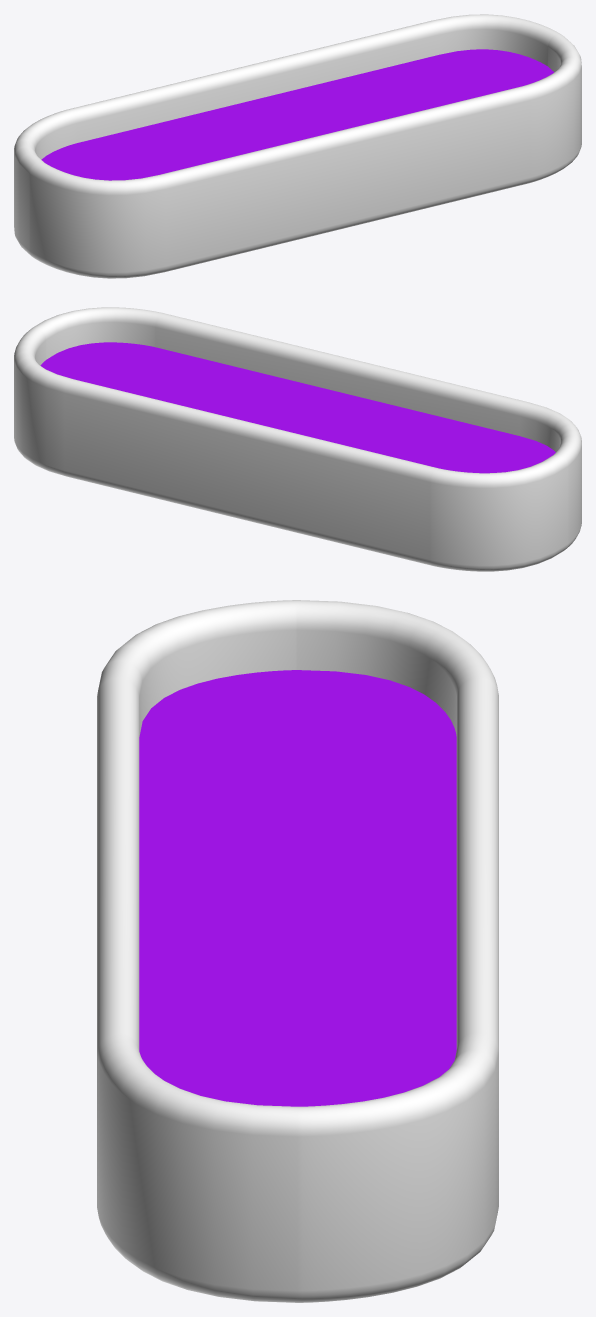
The model's file is Paddle-13.dae.
3 renders of one model, top to bottom at view 1: azimuth 30°, elevation 25°; view 2: azimuth 150°, elevation 25°; view 3: azimuth 270°, elevation 25°, orthographic. The views are drawn at different scales.
Visible parts, largest first — view 1: Paddle; view 2: Paddle; view 3: Paddle.
Part boxes in pixels (box(x1,y1,x2,y2)): Paddle: box(14, 14, 581, 278); Paddle: box(14, 307, 581, 571); Paddle: box(97, 600, 498, 1302).
Size of the model in its own units: 0.303 by 0.0519 by 0.0982.
